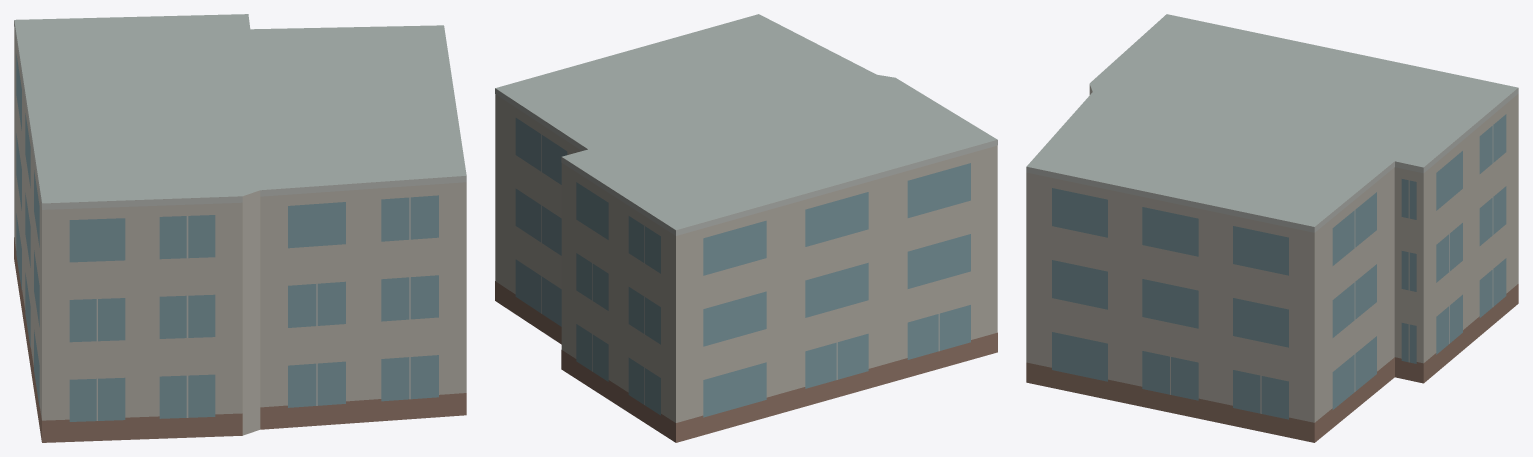
The model's file is residential-0c930147-5dd6-4193-8689-4f33f06b979d.glb.
3 renders of one model, left to right at view 1: azimuth 30°, elevation 25°; view 2: azimuth 150°, elevation 25°; view 3: azimuth 270°, elevation 25°, orthographic. The views are drawn at different scales.
Parts seen in each view (by area): view 1: residential-0c930147-5dd6-4193-8689-4f33f06b979d.tmp; view 2: residential-0c930147-5dd6-4193-8689-4f33f06b979d.tmp; view 3: residential-0c930147-5dd6-4193-8689-4f33f06b979d.tmp.
Boxes of the visible parts, left/top/right/bottom form: residential-0c930147-5dd6-4193-8689-4f33f06b979d.tmp: left=14, top=14, right=466, bottom=442; residential-0c930147-5dd6-4193-8689-4f33f06b979d.tmp: left=495, top=14, right=997, bottom=442; residential-0c930147-5dd6-4193-8689-4f33f06b979d.tmp: left=1026, top=14, right=1518, bottom=442.
Bounding box in the file's own units: 19.05 × 9 × 18.6.
